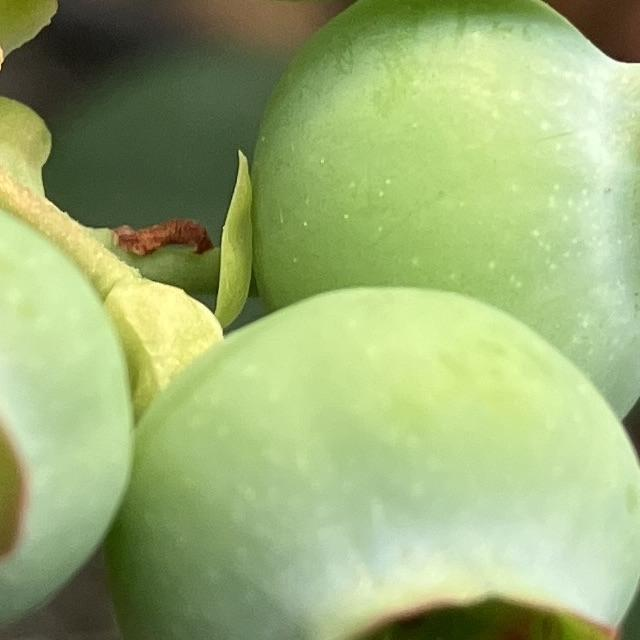Blueberries: (102, 280, 640, 640)
